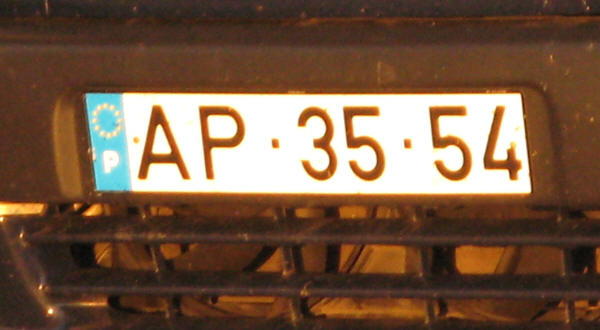license_plate: (85, 89, 536, 194)
